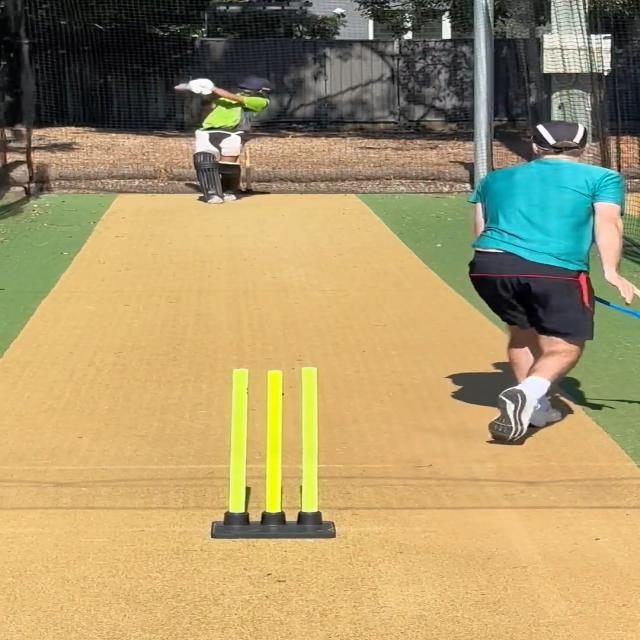stump: (210, 364, 341, 540)
